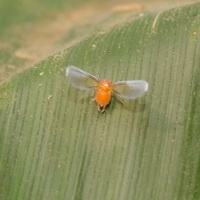insect: (66, 66, 147, 111)
